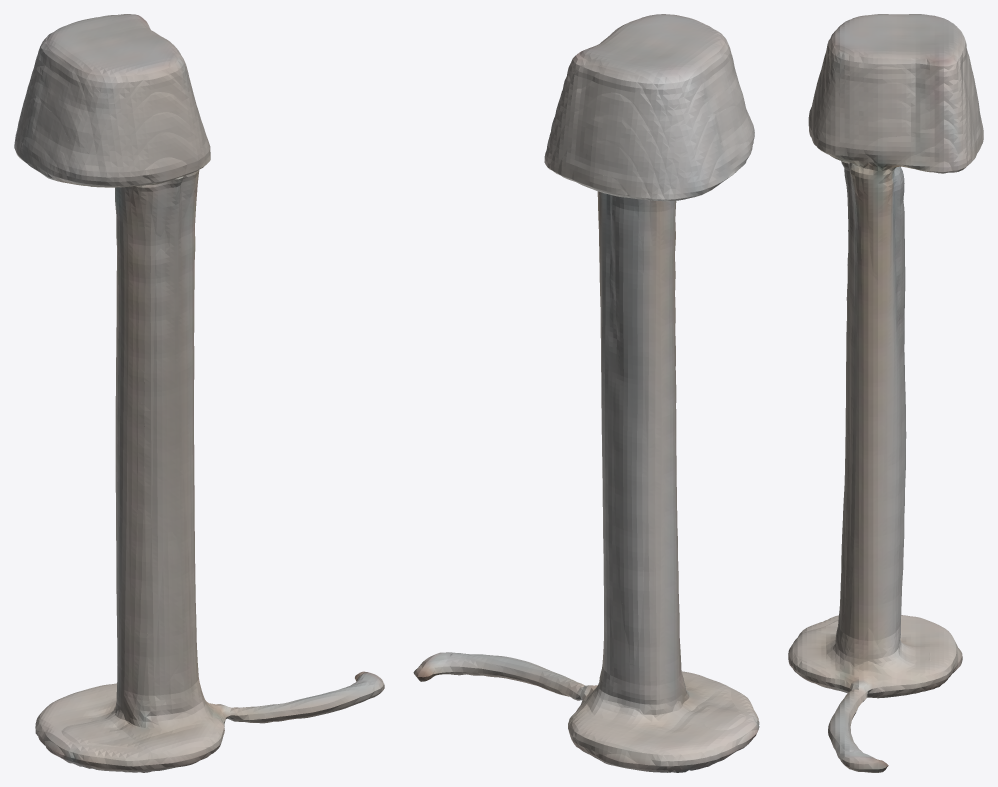
The model's file is floor-lamp.glb.
3 views of the same model, side by side, from view 1: azimuth 30°, elevation 25°; view 2: azimuth 150°, elevation 25°; view 3: azimuth 270°, elevation 25° (orthographic). The views are drawn at different scales.
Parts seen in each view (by area): view 1: world; view 2: world; view 3: world.
Boxes of the visible parts, <box> form: world: <box>14,14,384,772</box>; world: <box>413,14,759,772</box>; world: <box>788,14,983,772</box>.
Bounding box in the file's own units: 0.4984 × 1.01 × 0.2824.
